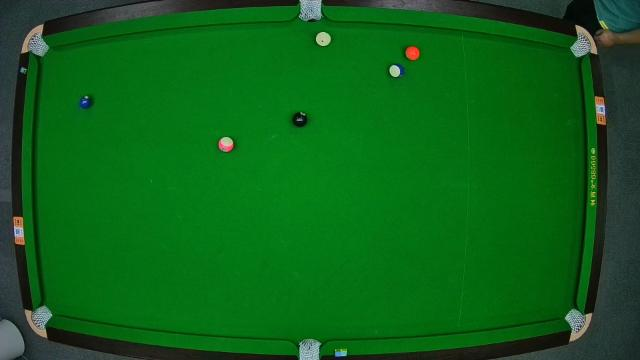bag1: (29, 36, 47, 55)
bag2: (300, 1, 324, 22)
bag3: (572, 32, 592, 57)
bag4: (30, 304, 52, 328)
bag5: (298, 340, 322, 360)
bag6: (568, 310, 588, 330)
ball0: (314, 30, 332, 48)
ball10: (388, 63, 404, 79)
ball12: (218, 137, 234, 153)
ball2: (77, 94, 93, 108)
ball5: (406, 44, 420, 60)
ball8: (292, 111, 308, 127)
